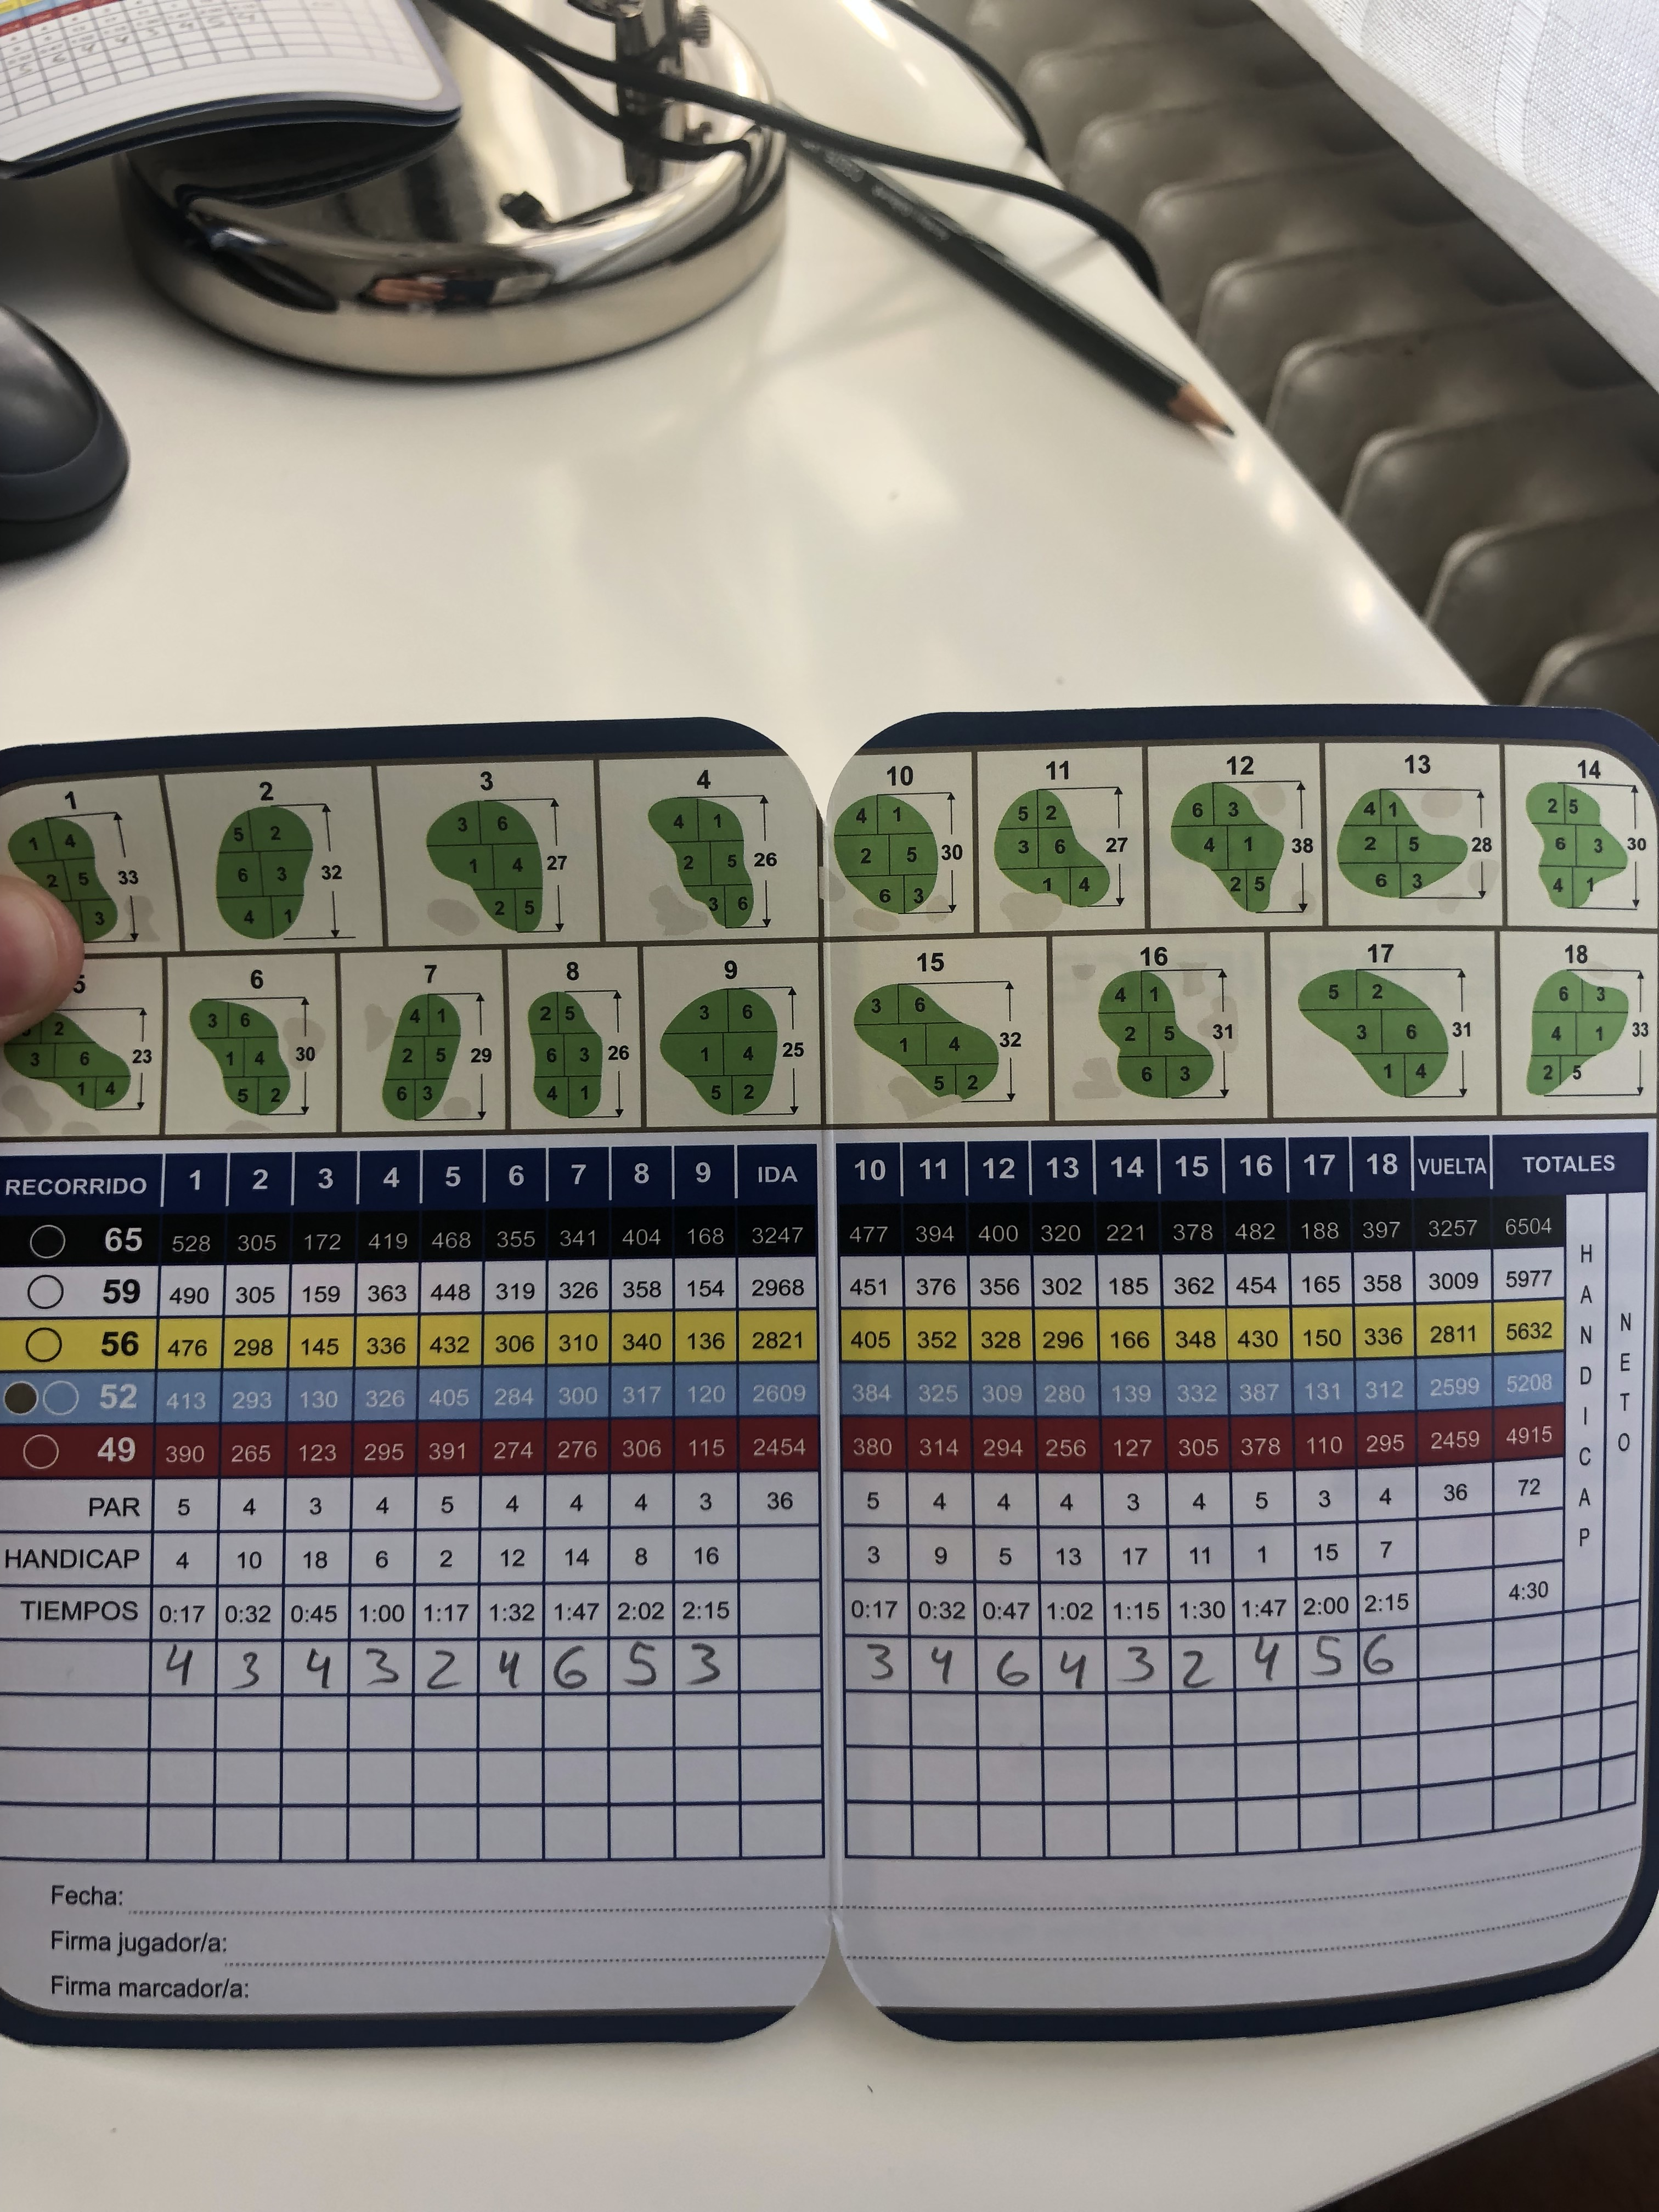par: (84, 1480, 1567, 1519)
score: (150, 1634, 1412, 1688)
